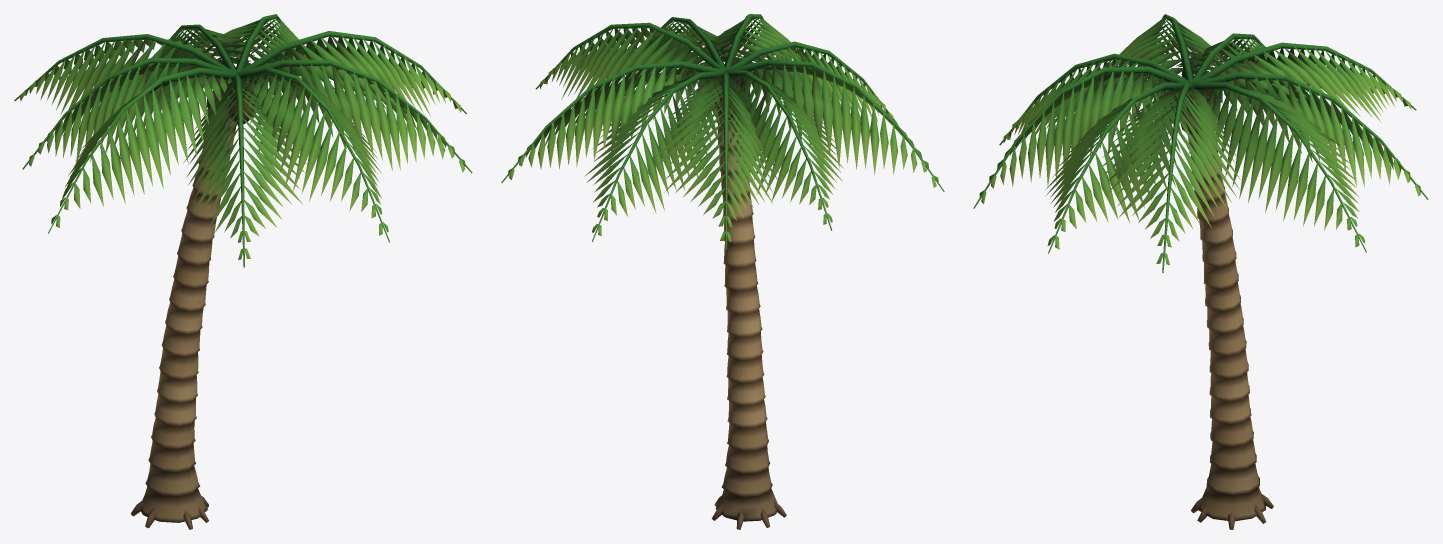
The model's file is tree-palm-v3.glb.
3 views of the same model, side by side, from view 1: azimuth 30°, elevation 25°; view 2: azimuth 150°, elevation 25°; view 3: azimuth 270°, elevation 25° (orthographic). The views are drawn at different scales.
Parts seen in each view (by area): view 1: 1_leaves, 0_trunk; view 2: 1_leaves, 0_trunk; view 3: 1_leaves, 0_trunk.
Boxes of the visible parts, x1,y1,x2,y2 form: 1_leaves: (14, 14, 472, 267); 0_trunk: (130, 79, 242, 529); 1_leaves: (501, 14, 944, 248); 0_trunk: (711, 80, 786, 529); 1_leaves: (973, 14, 1428, 272); 0_trunk: (1186, 91, 1273, 529).
Size of the model in its own units: 5.65 by 5.97 by 5.15.
